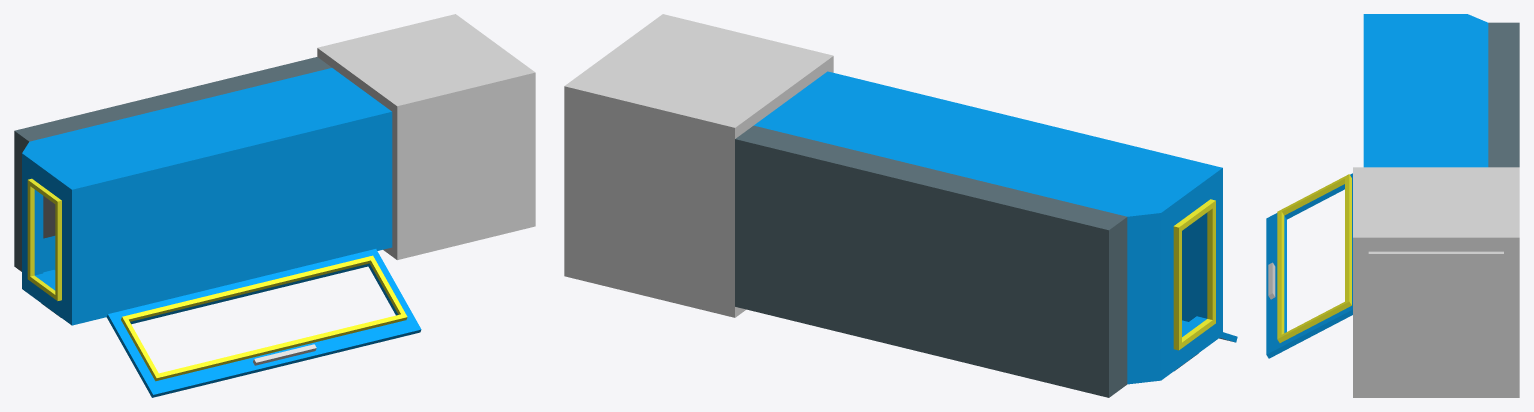
Rendered from cnc_vertical_machining_center_4_state_1.dae.
The picture shows the model from 3 angles, left to right: view 1: azimuth 30°, elevation 25°; view 2: azimuth 150°, elevation 25°; view 3: azimuth 270°, elevation 25°; orthographic projection. The views are drawn at different scales.
Visible parts, largest first — view 1: coords_ME_ID3_MA_material_6, coords_ME_ID27_MA_material_8, coords_ME_ID33_MA_material_16, coords_ME_ID53_MA_material_3, coords_ME_ID113_MA_material_3, coords_ME_ID61_MA_material_3, coords_ME_ID107_MA_material_6, coords_ME_ID79_MA_material_6, coords_ME_ID73_MA_material_3, coords_ME_ID41_MA_material_6, coords_ME_ID101_MA_material, coords_ME_ID67_MA_material_8; view 2: coords_ME_ID33_MA_material_16, coords_ME_ID27_MA_material_8, coords_ME_ID3_MA_material_6, coords_ME_ID113_MA_material_3, coords_ME_ID41_MA_material_6, coords_ME_ID79_MA_material_6, coords_ME_ID73_MA_material_3; view 3: coords_ME_ID3_MA_material_6, coords_ME_ID27_MA_material_8, coords_ME_ID47_MA_material_8, coords_ME_ID33_MA_material_16, coords_ME_ID53_MA_material_3, coords_ME_ID61_MA_material_3, coords_ME_ID107_MA_material_6, coords_ME_ID67_MA_material_8.
Part boxes in pixels (x1=…): coords_ME_ID3_MA_material_6: x1=22, y1=68, x2=421, y2=397; coords_ME_ID27_MA_material_8: x1=317, y1=14, x2=535, y2=259; coords_ME_ID33_MA_material_16: x1=14, y1=57, x2=331, y2=271; coords_ME_ID53_MA_material_3: x1=121, y1=255, x2=407, y2=381; coords_ME_ID113_MA_material_3: x1=27, y1=178, x2=61, y2=300; coords_ME_ID61_MA_material_3: x1=129, y1=260, x2=400, y2=321; coords_ME_ID107_MA_material_6: x1=130, y1=263, x2=398, y2=324; coords_ME_ID79_MA_material_6: x1=34, y1=189, x2=55, y2=290; coords_ME_ID73_MA_material_3: x1=30, y1=186, x2=55, y2=294; coords_ME_ID41_MA_material_6: x1=43, y1=236, x2=55, y2=281; coords_ME_ID101_MA_material: x1=43, y1=196, x2=55, y2=238; coords_ME_ID67_MA_material_8: x1=253, y1=344, x2=316, y2=365; coords_ME_ID33_MA_material_16: x1=735, y1=125, x2=1127, y2=397; coords_ME_ID27_MA_material_8: x1=564, y1=14, x2=833, y2=317; coords_ME_ID3_MA_material_6: x1=754, y1=71, x2=1237, y2=384; coords_ME_ID113_MA_material_3: x1=1173, y1=199, x2=1215, y2=350; coords_ME_ID41_MA_material_6: x1=1182, y1=220, x2=1196, y2=326; coords_ME_ID79_MA_material_6: x1=1182, y1=212, x2=1207, y2=336; coords_ME_ID73_MA_material_3: x1=1182, y1=208, x2=1212, y2=342; coords_ME_ID3_MA_material_6: x1=1266, y1=14, x2=1488, y2=358; coords_ME_ID27_MA_material_8: x1=1353, y1=167, x2=1519, y2=397; coords_ME_ID47_MA_material_8: x1=1368, y1=251, x2=1503, y2=385; coords_ME_ID33_MA_material_16: x1=1488, y1=22, x2=1519, y2=167; coords_ME_ID53_MA_material_3: x1=1277, y1=174, x2=1351, y2=342; coords_ME_ID61_MA_material_3: x1=1281, y1=178, x2=1344, y2=334; coords_ME_ID107_MA_material_6: x1=1284, y1=184, x2=1344, y2=332; coords_ME_ID67_MA_material_8: x1=1268, y1=262, x2=1275, y2=299.
Bounding box in the file's own units: 85.04 × 33.46 × 38.34.
